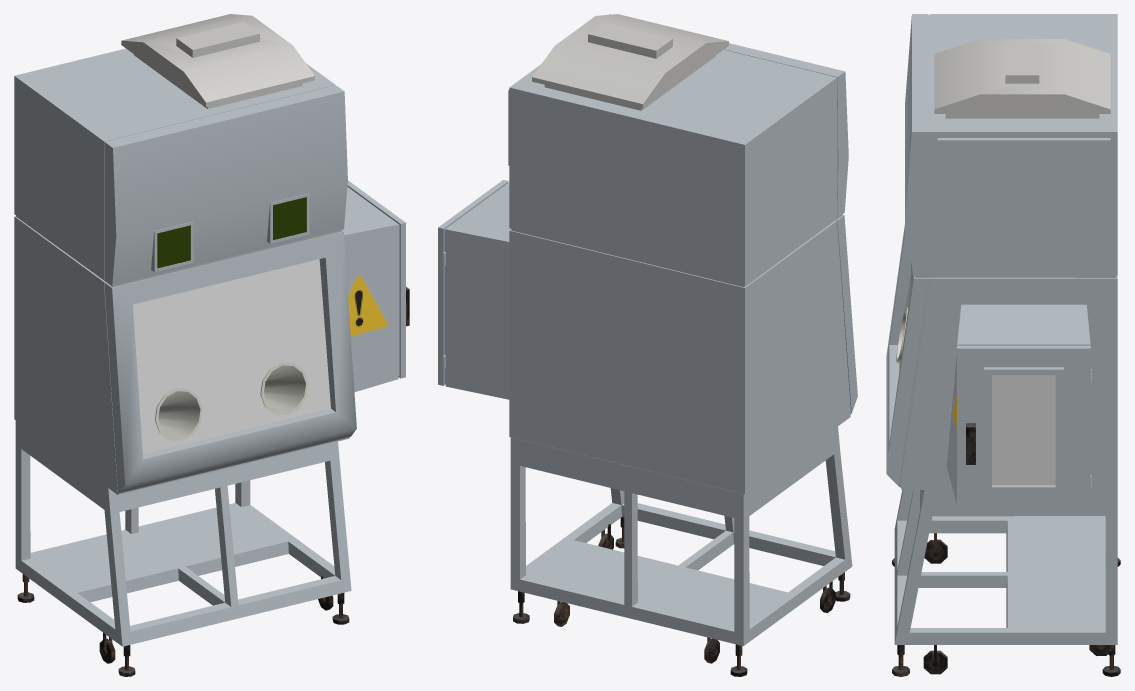
The model's file is LAF_Cabin.fbx.
3 renders of one model, left to right at view 1: azimuth 30°, elevation 25°; view 2: azimuth 150°, elevation 25°; view 3: azimuth 270°, elevation 25°, orthographic. The views are drawn at different scales.
Parts seen in each view (by area): view 1: LAF cabin; view 2: LAF cabin; view 3: LAF cabin.
Boxes of the visible parts, box(x1,y1,x2,y2) form: LAF cabin: box(14, 14, 409, 676); LAF cabin: box(438, 14, 857, 676); LAF cabin: box(886, 14, 1120, 676).
Size of the model in its own units: 113 by 187 by 68.04.
